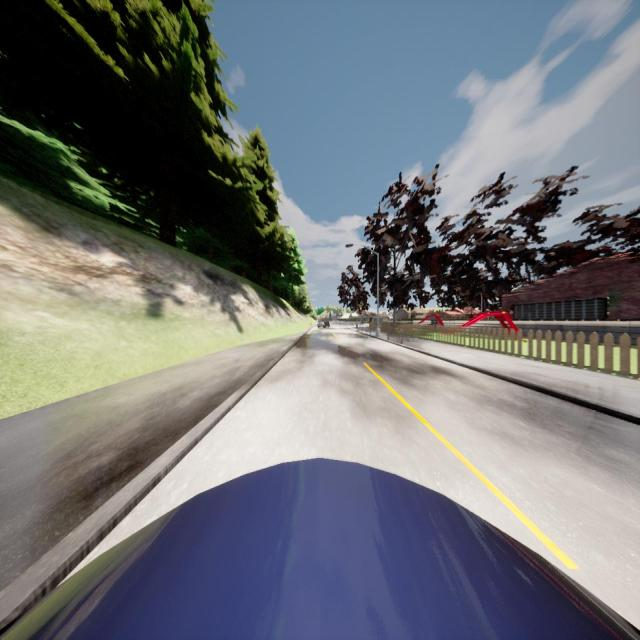Vehicle: (0, 457, 640, 640), (317, 319, 330, 329)
traffic_light: (359, 307, 362, 314)
